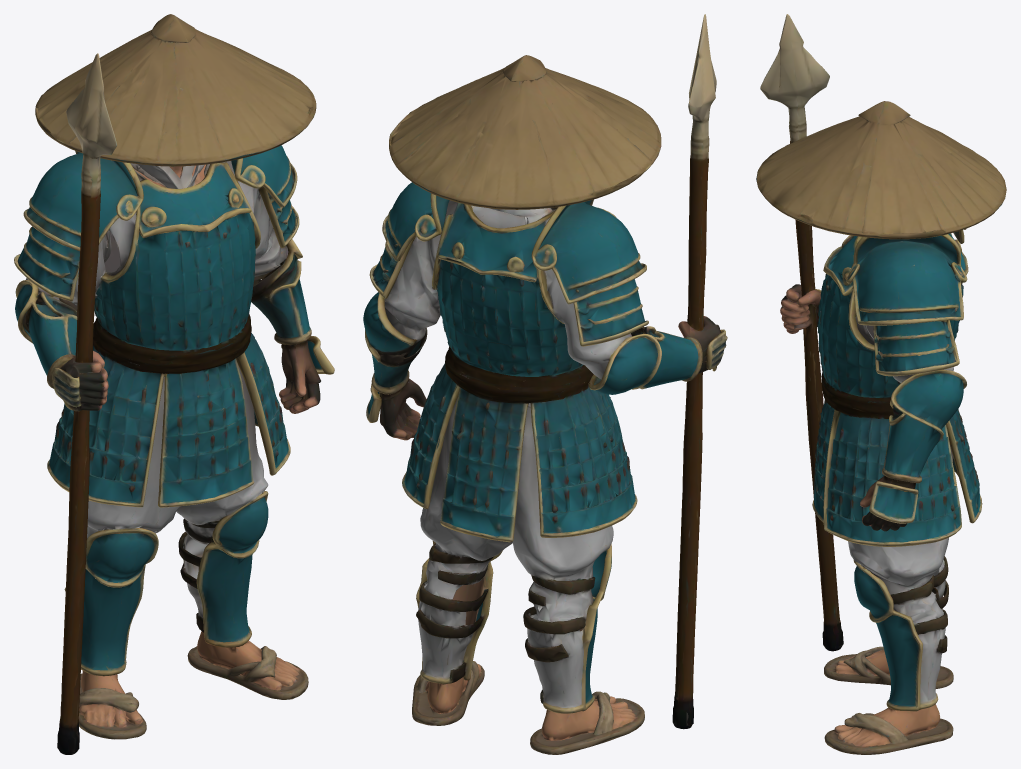
The model's file is detail_1.glb.
The picture shows the model from 3 angles, left to right: view 1: azimuth 30°, elevation 25°; view 2: azimuth 150°, elevation 25°; view 3: azimuth 270°, elevation 25°; orthographic projection. The views are drawn at different scales.
Bounding box in the file's own units: 0.4597 × 0.9999 × 0.3567.
Materials: 1 (1 with a texture image).
